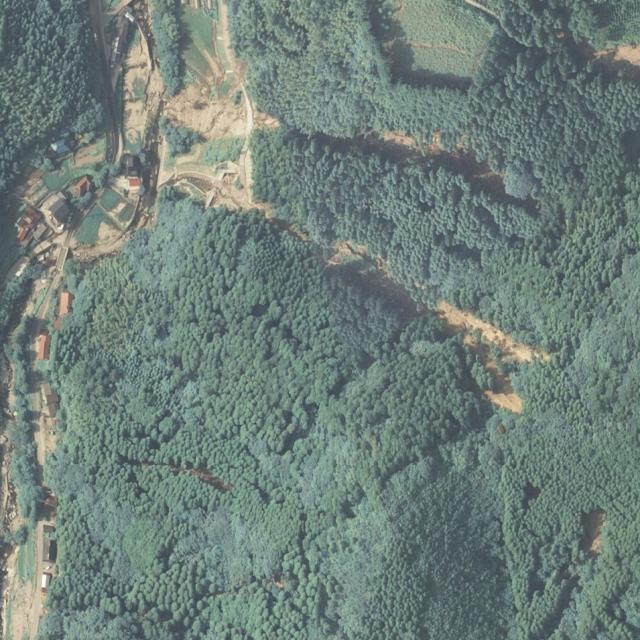landslide: (149, 1, 253, 208), (436, 301, 550, 414)
